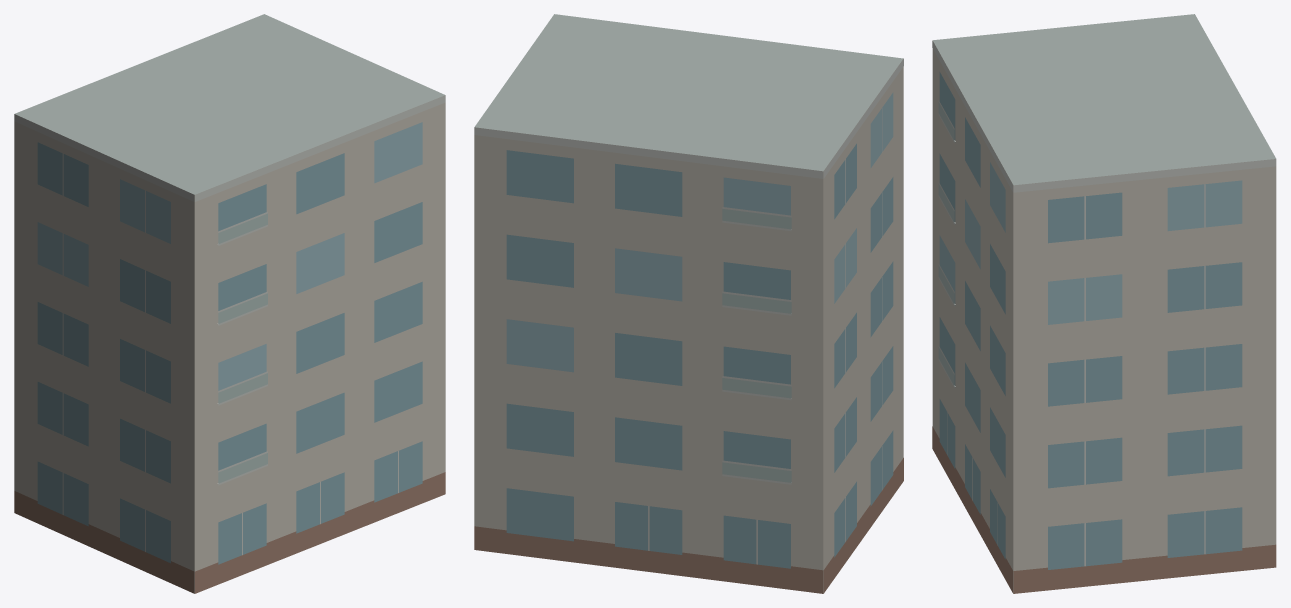
File: survey-upis-32607170.glb
3 views of the same model, side by side, from view 1: azimuth 30°, elevation 25°; view 2: azimuth 150°, elevation 25°; view 3: azimuth 270°, elevation 25° (orthographic). The views are drawn at different scales.
Parts seen in each view (by area): view 1: survey-upis-32607170.tmp; view 2: survey-upis-32607170.tmp; view 3: survey-upis-32607170.tmp.
Boxes of the visible parts, x1,y1,x2,y2 form: survey-upis-32607170.tmp: (14,14,445,593); survey-upis-32607170.tmp: (474,14,903,593); survey-upis-32607170.tmp: (932,14,1276,593).
Bounding box in the file's own units: 11.97 × 13.3 × 10.16.
